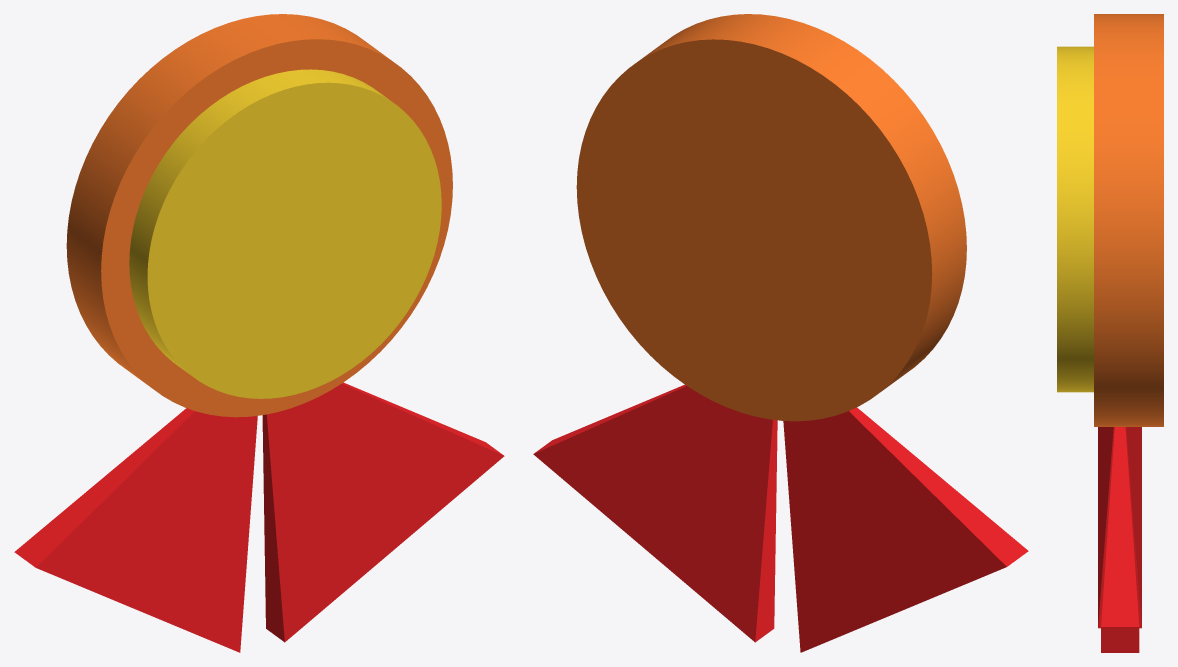
File: medal.fbx
3 renders of one model, left to right at view 1: azimuth 30°, elevation 25°; view 2: azimuth 150°, elevation 25°; view 3: azimuth 270°, elevation 25°, orthographic.
Parts seen in each view (by area): view 1: root (×4); view 2: root (×3); view 3: root (×4).
Boxes of the visible parts, box(x1,y1,x2,y2) form: root (×4): box(14, 14, 504, 652); root (×3): box(533, 14, 1028, 652); root (×4): box(1057, 14, 1163, 652).
Bounding box in the file's own units: 0.4011 × 0.4919 × 0.0776.
Materials: 4 (4 with a texture image).
